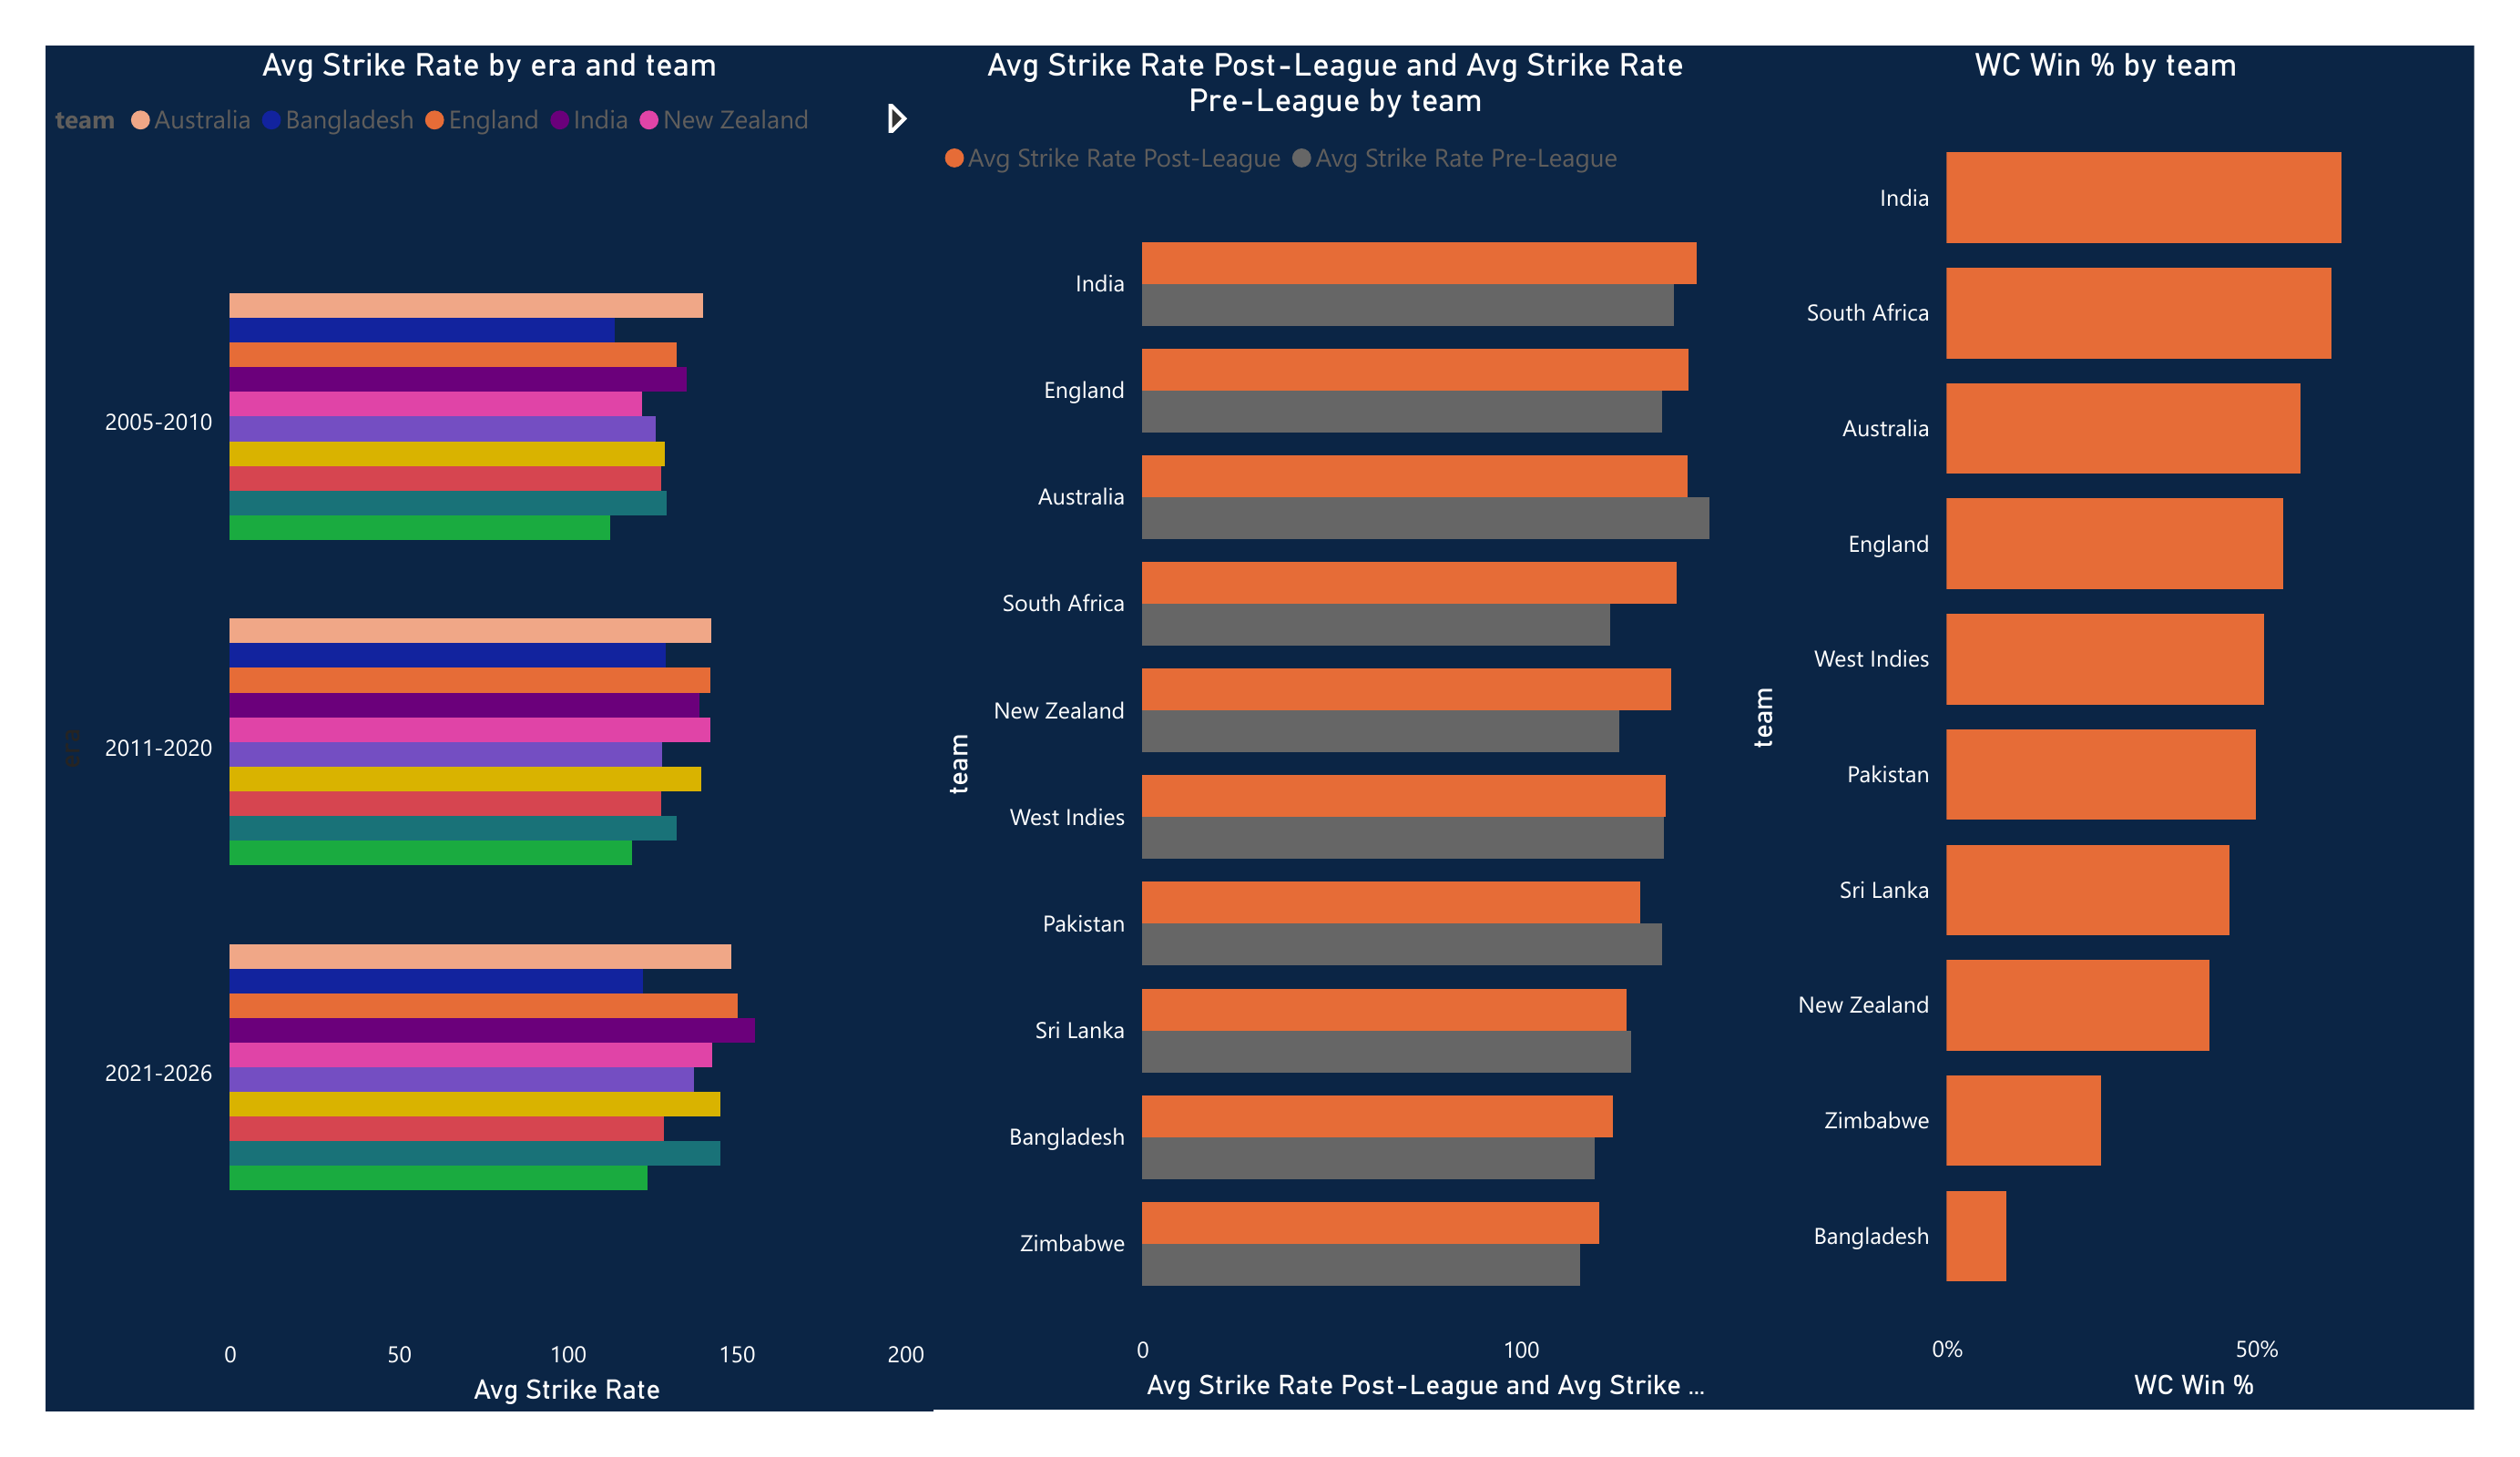

What the dashboard file says about the page in this screenshot:
{"tool":"powerbi","page":{"name":"Page 3","canvas":[1280,720],"ordinal":2},"visuals":[{"type":"clusteredBarChart","fields":{"Category":["team_matches.era"],"Y":["team_matches.Avg Strike Rate"],"Series":["team_matches.team"]},"box":[0,0,467.9,720.8],"z":0},{"type":"clusteredBarChart","fields":{"Category":["team_matches.team"],"Y":["team_matches.Avg Strike Rate Post-League","team_matches.Avg Strike Rate Pre-League"]},"box":[467.9,0,424,719.2],"z":1000},{"type":"clusteredBarChart","fields":{"Category":["team_matches.team"],"Y":["team_matches.WC Win %"]},"box":[891.9,0,387.6,719.2],"z":2000}]}

Visuals, with their boxes on the page's 1280x720 design canvas (x1, y1, x2, y2). These are canvas units, not pixel positions in the 2520x1457 screenshot, which may show the page scaled, cropped or inside an application window:
clusteredBarChart - team_matches.era x team_matches.Avg Strike Rate: locate(0, 0, 468, 721)
clusteredBarChart - team_matches.team x team_matches.Avg Strike Rate Post-League: locate(468, 0, 892, 719)
clusteredBarChart - team_matches.team x team_matches.WC Win %: locate(892, 0, 1280, 719)
